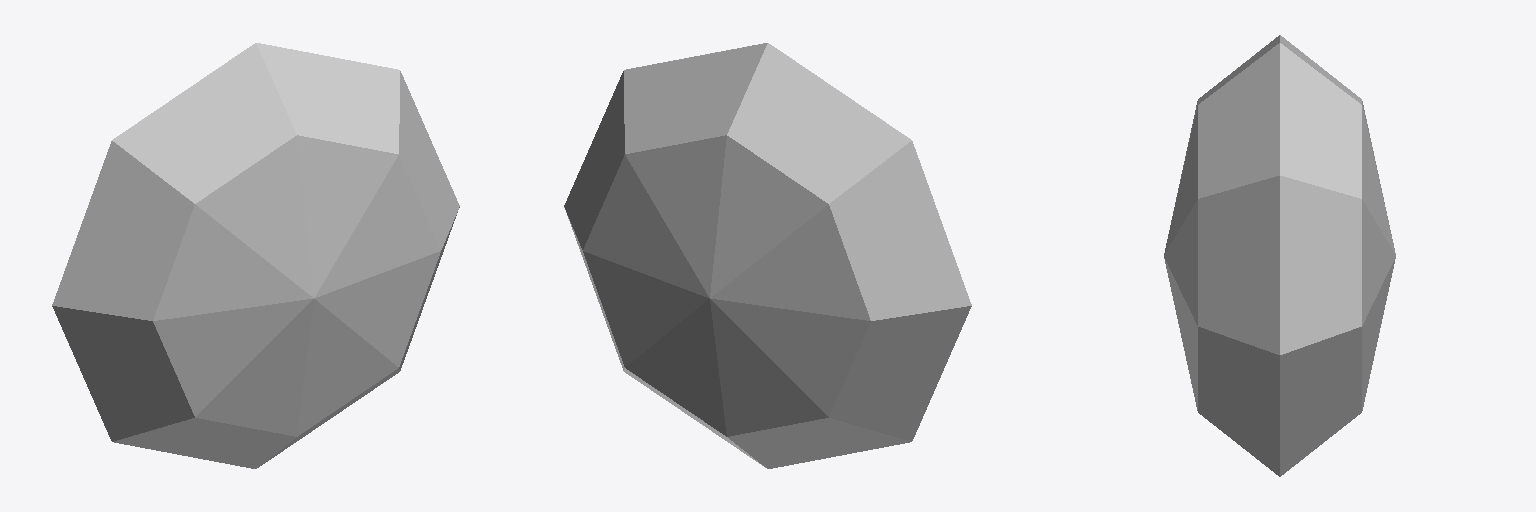
File: uiMinimapMark.obj
3 renders of one model, left to right at view 1: azimuth 30°, elevation 25°; view 2: azimuth 150°, elevation 25°; view 3: azimuth 270°, elevation 25°, orthographic.
Parts seen in each view (by area): view 1: Sphere001; view 2: Sphere001; view 3: Sphere001.
Boxes of the visible parts, x1,y1,x2,y2 form: Sphere001: [52, 43, 459, 468]; Sphere001: [564, 43, 971, 468]; Sphere001: [1164, 35, 1395, 476].
Bounding box in the file's own units: 1.06 × 1.06 × 0.5224.